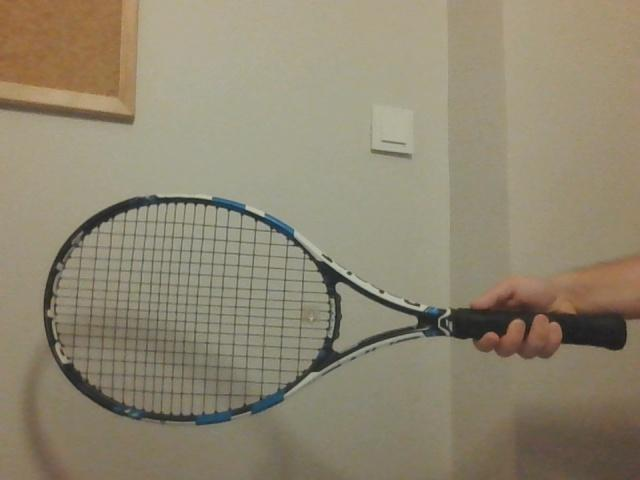Tennis-Racket: (45, 192, 625, 427)
